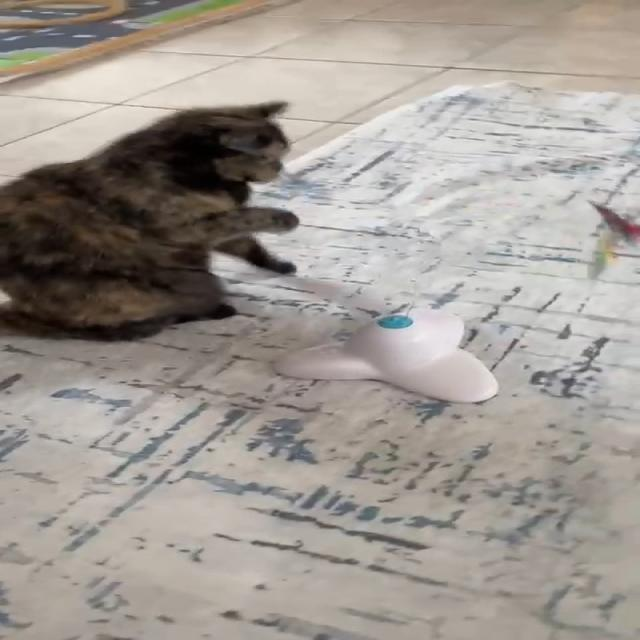authorized: (0, 100, 300, 342)
